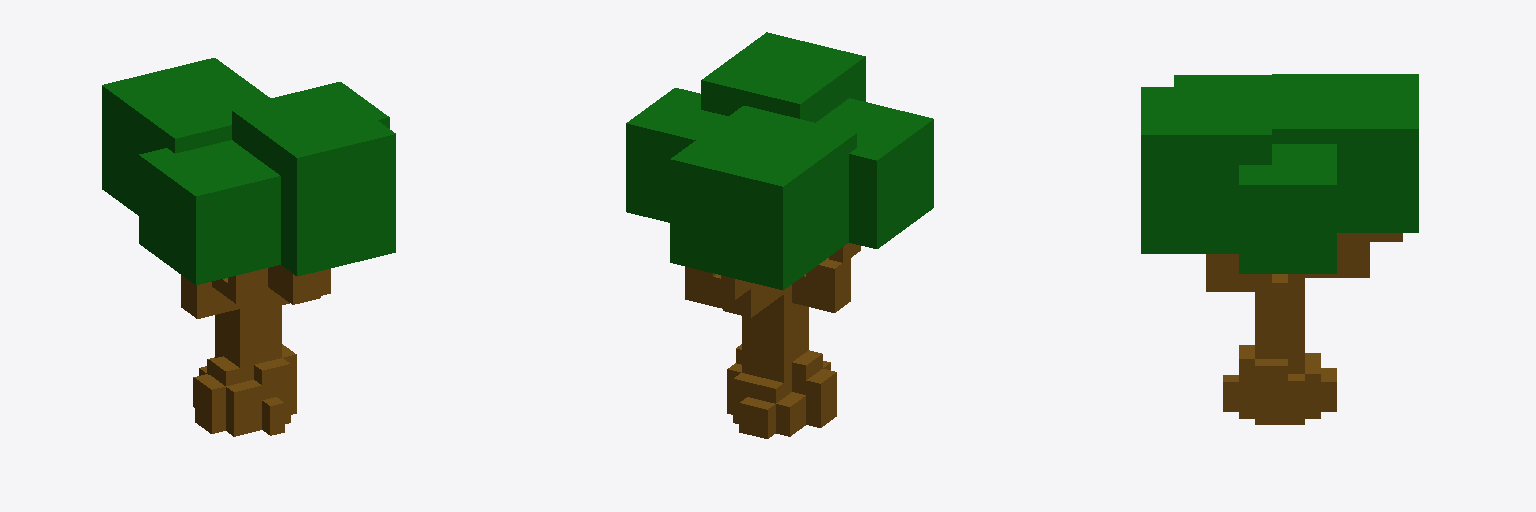
3 renders of one model, left to right at view 1: azimuth 30°, elevation 25°; view 2: azimuth 150°, elevation 25°; view 3: azimuth 270°, elevation 25°, orthographic.
Parts seen in each view (by area): view 1: object 1; view 2: object 1; view 3: object 1.
Boxes of the visible parts, x1=… form: object 1: x1=102, y1=58, x2=395, y2=436; object 1: x1=626, y1=32, x2=933, y2=438; object 1: x1=1141, y1=74, x2=1418, y2=424.
Bounding box in the file's own units: 1.6 × 2.1 × 1.7.
1 materials, 1 textured.